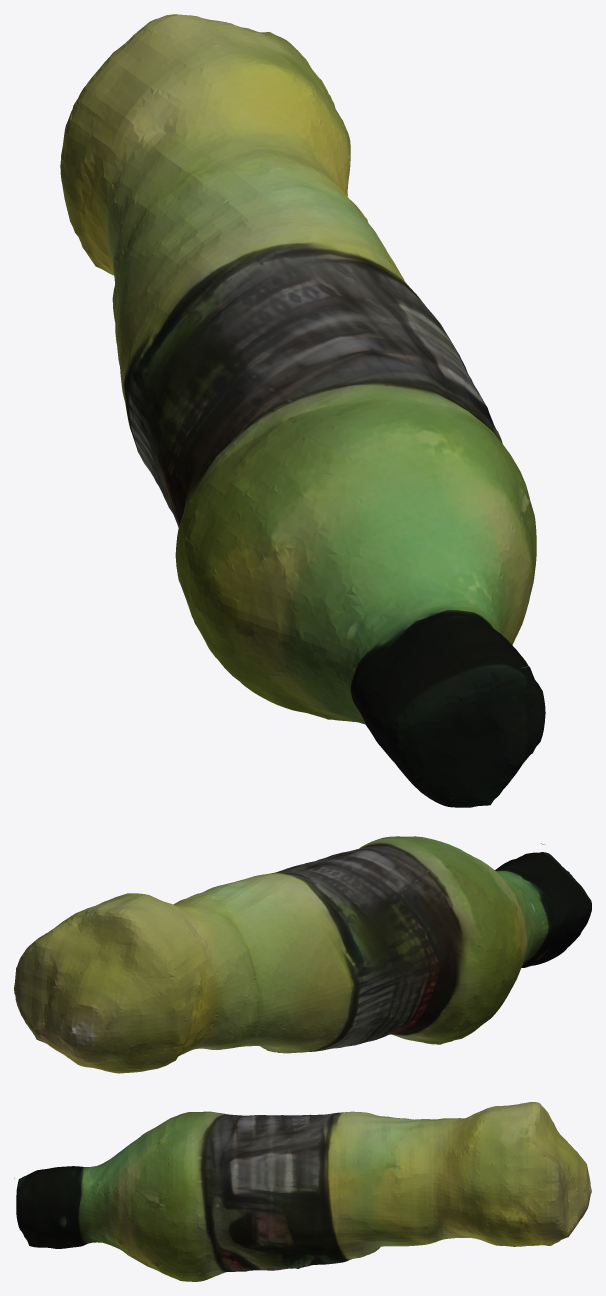
Rendered from 0_rgba.obj.
3 views of the same model, one above another, from view 1: azimuth 30°, elevation 25°; view 2: azimuth 150°, elevation 25°; view 3: azimuth 270°, elevation 25° (orthographic). The views are drawn at different scales.
Bounding box in the file's own units: 0.933 × 0.7833 × 2.
1 material, 1 textured.
